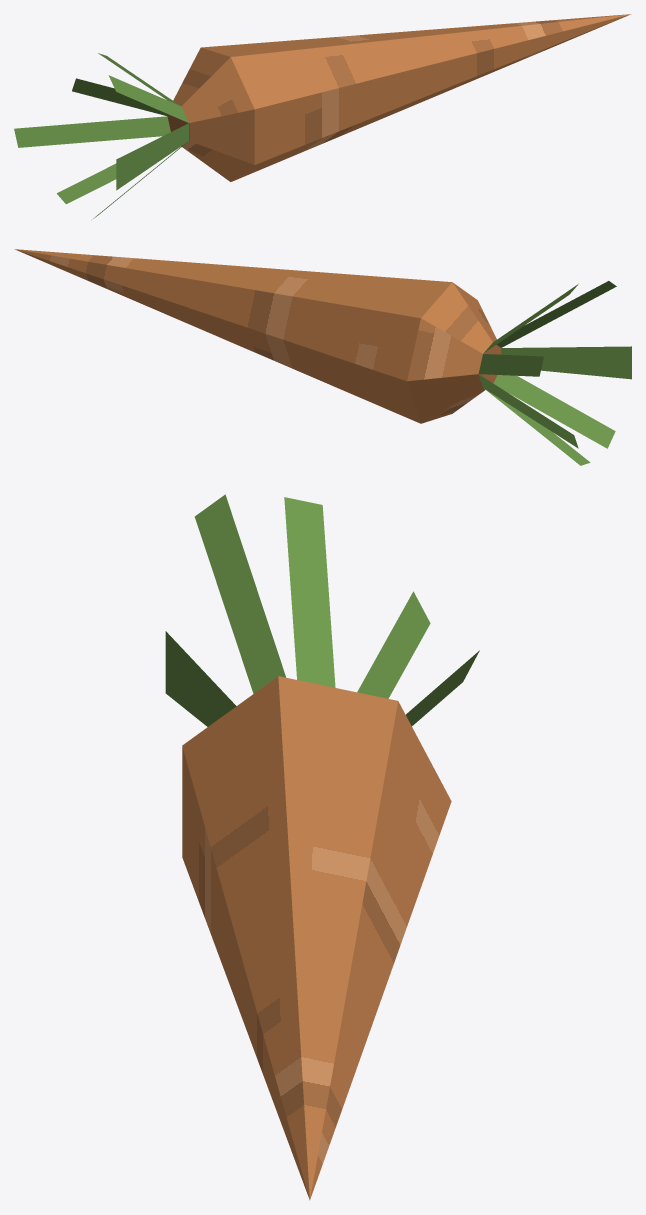
File: carrot.obj
3 views of the same model, one above another, from view 1: azimuth 30°, elevation 25°; view 2: azimuth 150°, elevation 25°; view 3: azimuth 270°, elevation 25° (orthographic). The views are drawn at different scales.
Visible parts, largest first — view 1: Cone; view 2: Cone; view 3: Cone.
Boxes of the visible parts, x1=… form: Cone: x1=14, y1=14, x2=631, y2=218; Cone: x1=14, y1=249, x2=631, y2=465; Cone: x1=165, y1=494, x2=479, y2=1200.
Size of the model in its own units: 2.81 by 0.7287 by 0.6655.
Materials: 1 (1 with a texture image).
